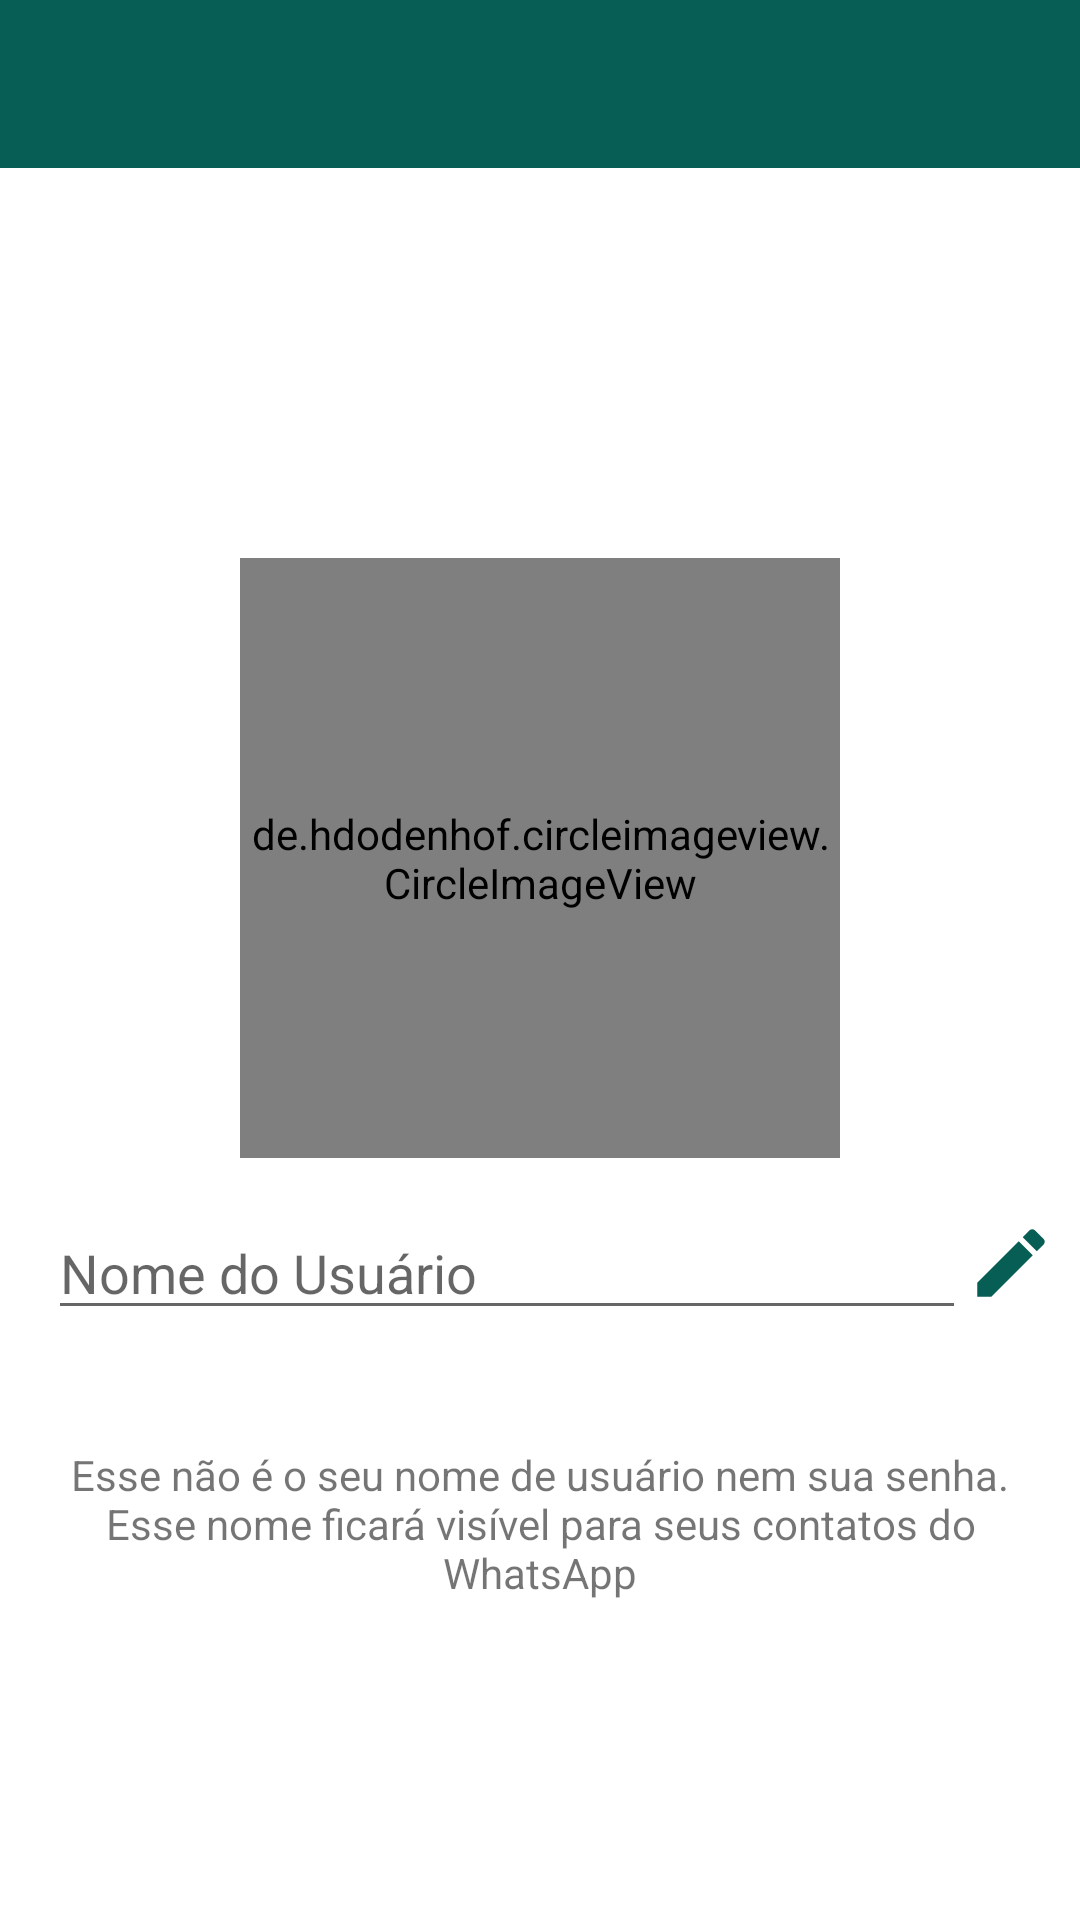

Locate icon controls on the screen. Image size 1080*1920, boxes as bbox=[x1, y1, x2, y2].
editar: bbox=[977, 1229, 1045, 1297]
